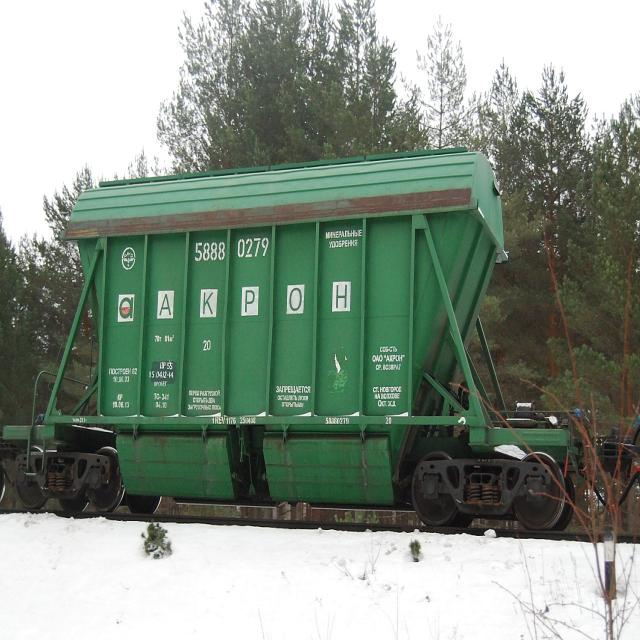Cart: (411, 432, 574, 552), (8, 433, 134, 524)
Coupling: (566, 400, 640, 504)
Hopper: (57, 148, 515, 417)
